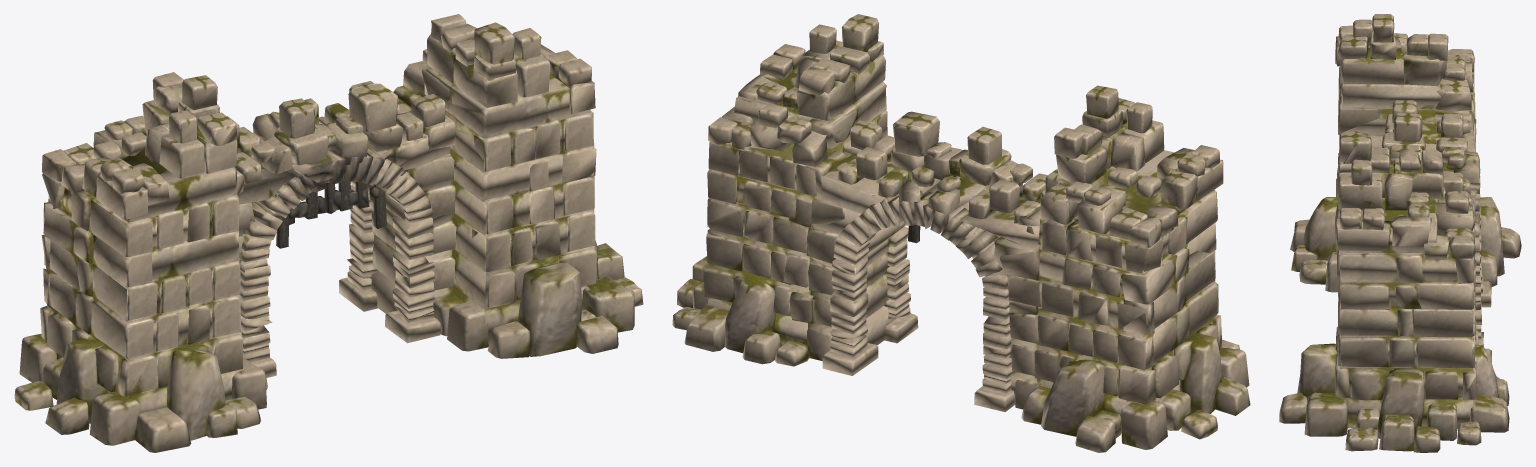
Rendered from kit-hc-gatehouse-burst.glb.
The picture shows the model from 3 angles, left to right: view 1: azimuth 30°, elevation 25°; view 2: azimuth 150°, elevation 25°; view 3: azimuth 270°, elevation 25°; orthographic projection. The views are drawn at different scales.
Parts seen in each view (by area): view 1: kit-hc-gatehouse-burst; view 2: kit-hc-gatehouse-burst; view 3: kit-hc-gatehouse-burst.
Boxes of the visible parts, bbox=[...] form: kit-hc-gatehouse-burst: bbox=[14, 14, 643, 452]; kit-hc-gatehouse-burst: bbox=[672, 14, 1250, 452]; kit-hc-gatehouse-burst: bbox=[1279, 14, 1521, 452].
Bounding box in the file's own units: 25.04 × 13 × 10.94.
1 material, 1 textured.
